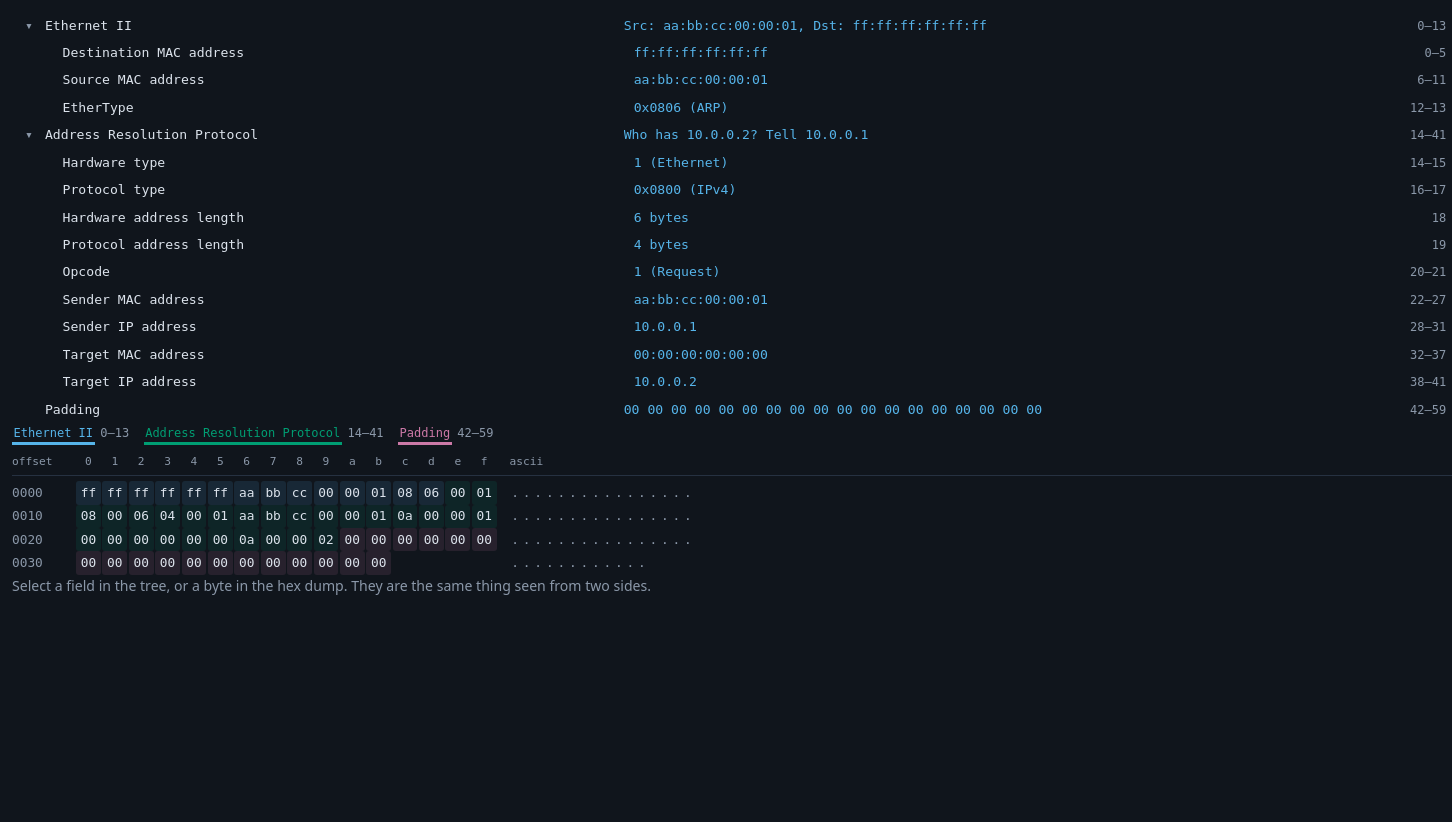
Scenario: keyboard operation › exposes the tree as an ARIA tree with expandable protocol nodes
The image size is (1452, 822).
Click the button named "Collapse Address Resolution Protocol". click: (29, 135)
box: [19,125,39,146]
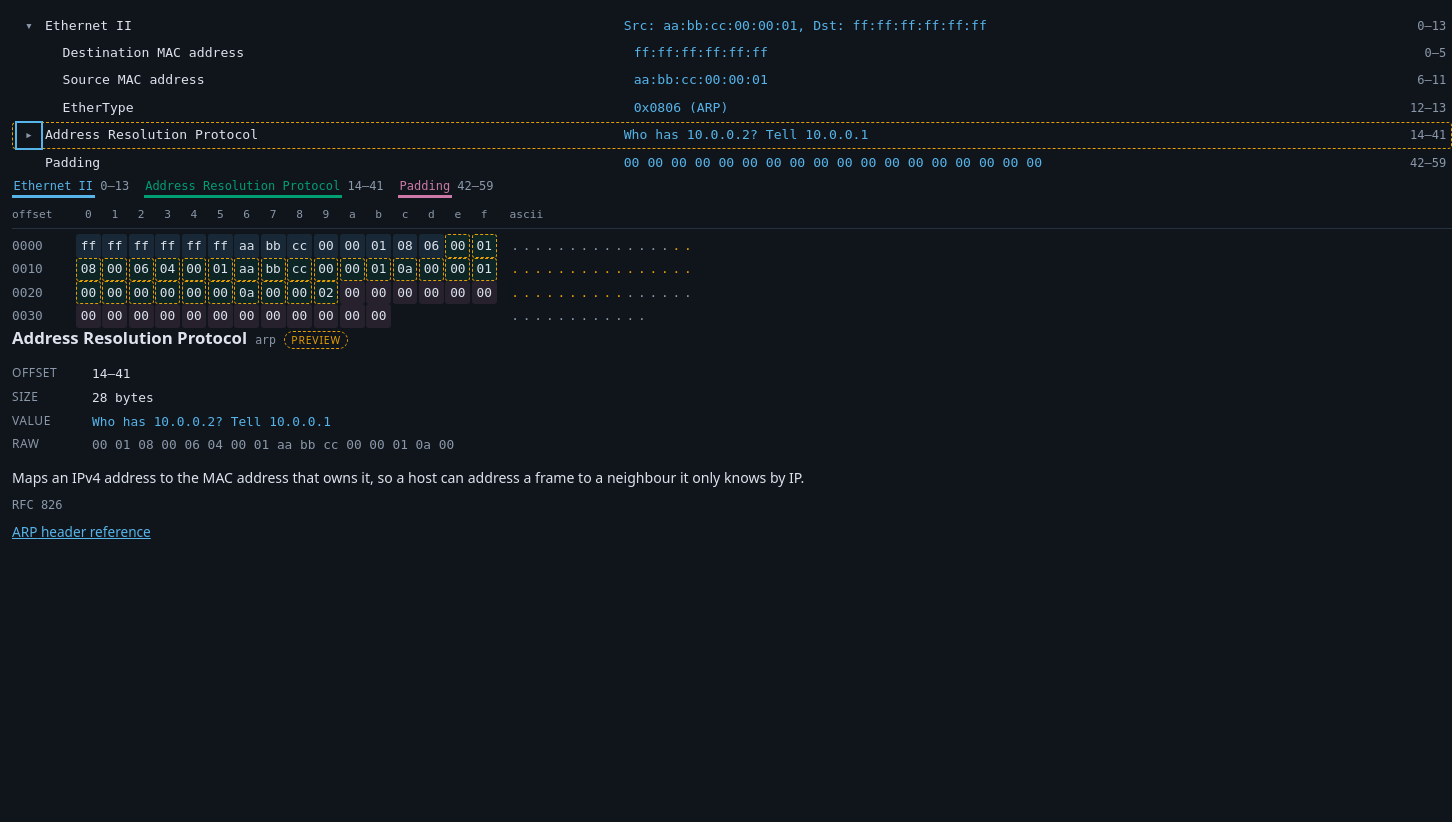
Now the text "Opcode" is gone
Click the button named "Expand Address Resolution Protocol". click: (29, 135)
box: [19,125,39,146]
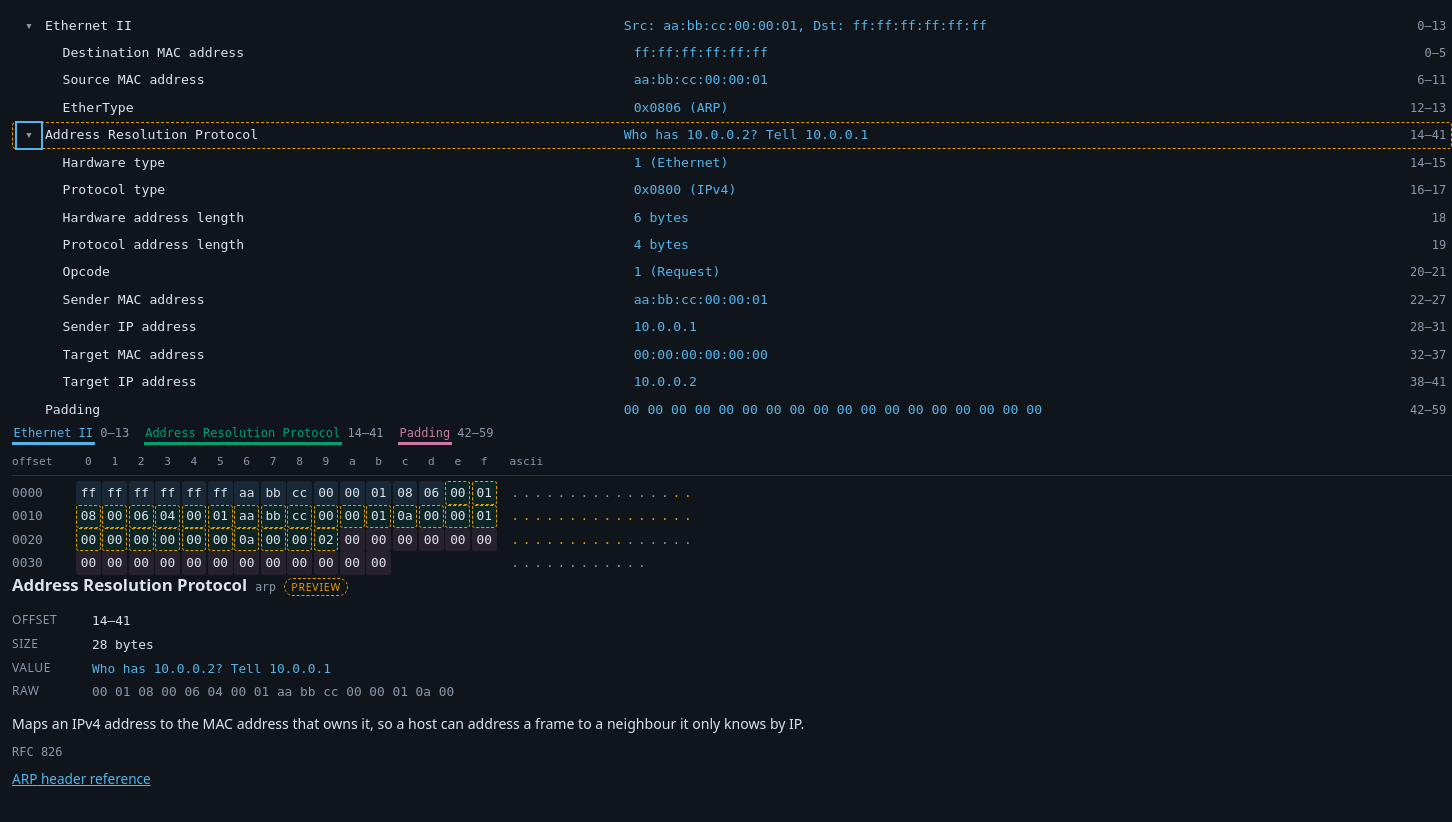
Now the text "Opcode" is shown, box [63,264,110,280]
